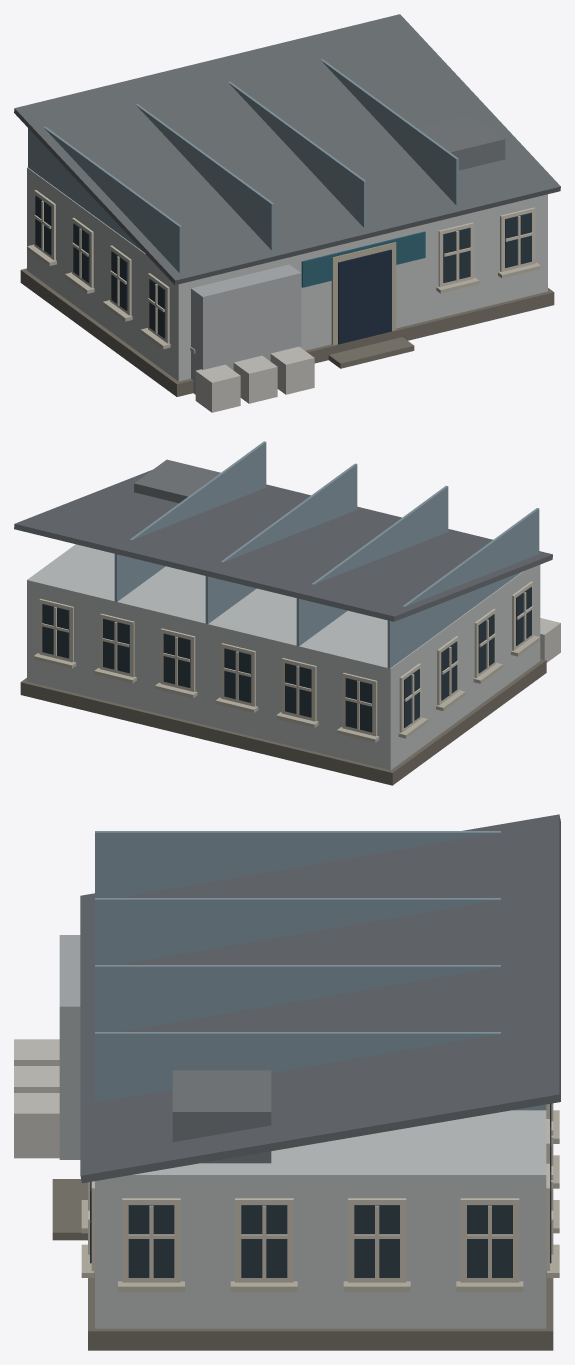
File: procedural_electronics_factory@6.glb
The picture shows the model from 3 angles, top to bottom: view 1: azimuth 30°, elevation 25°; view 2: azimuth 150°, elevation 25°; view 3: azimuth 270°, elevation 25°; orthographic projection. The views are drawn at different scales.
Parts seen in each view (by area): view 1: part_0; view 2: part_0; view 3: part_0.
Boxes of the visible parts, box(x1,y1,x2,y2) form: part_0: box(14, 14, 560, 412); part_0: box(14, 441, 560, 785); part_0: box(14, 814, 560, 1350).
Size of the model in its own units: 9.4 by 4.06 by 7.76.
